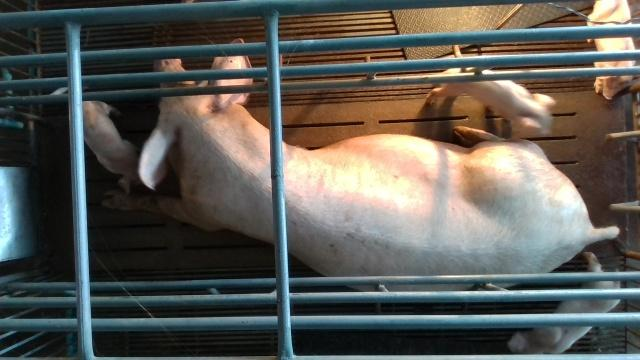piglet: (505, 252, 622, 354), (425, 67, 555, 135), (586, 0, 637, 101), (82, 100, 140, 188)
sow-sit: (142, 38, 621, 293)
